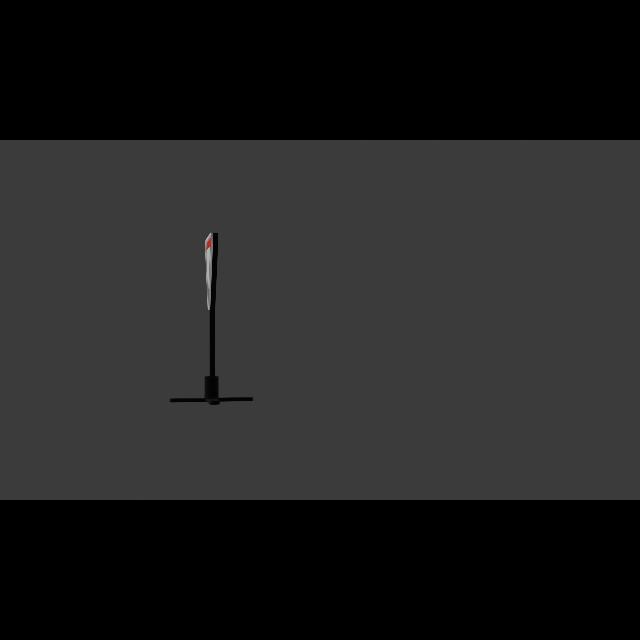sign_yield: (205, 234, 216, 312)
